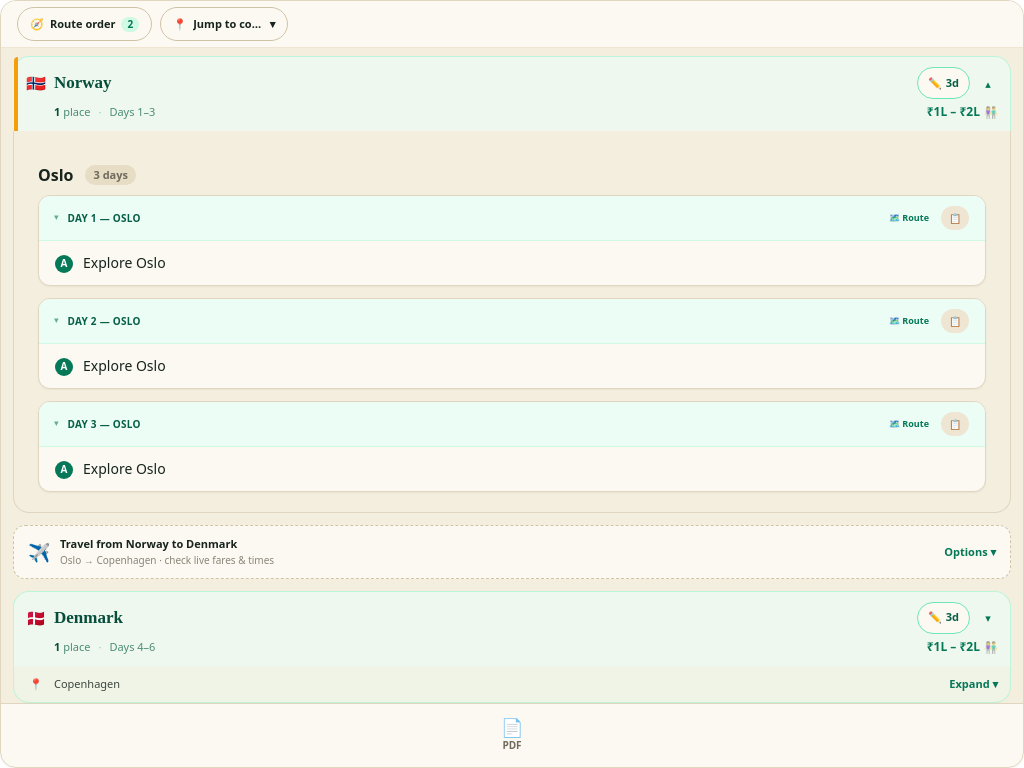
Test: TripReviewCanvas › expands a border hop into live-search links
The image size is (1024, 768).
Click the button "Travel from Norway to Denmark": (93, 544) [14, 526, 1010, 578]
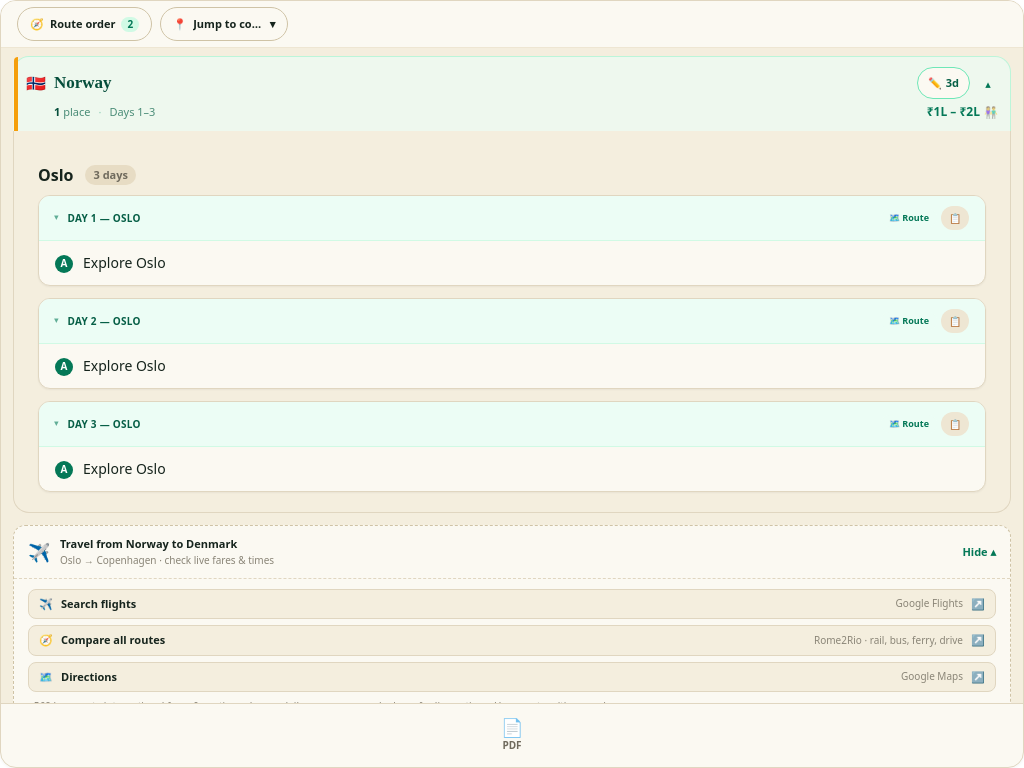
Result: the button "Travel from Norway to Denmark" is expanded at [14, 526, 1010, 578]
Result: the link "✈ Search flights Google Flights ↗" is shown at [28, 588, 996, 619]
